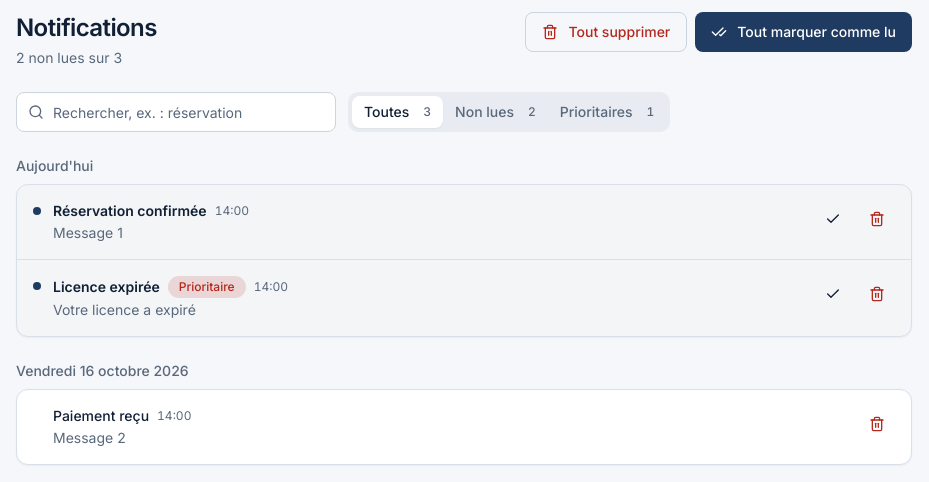
it: NotificationsPage › marque une notification comme lue en un clic
Expected: the text "Message 1" is shown, 53,224 -> 123,241
Click the button named "Marquer comme lue : Réservation confirmée" at (833, 219), box 815,201 -> 851,237
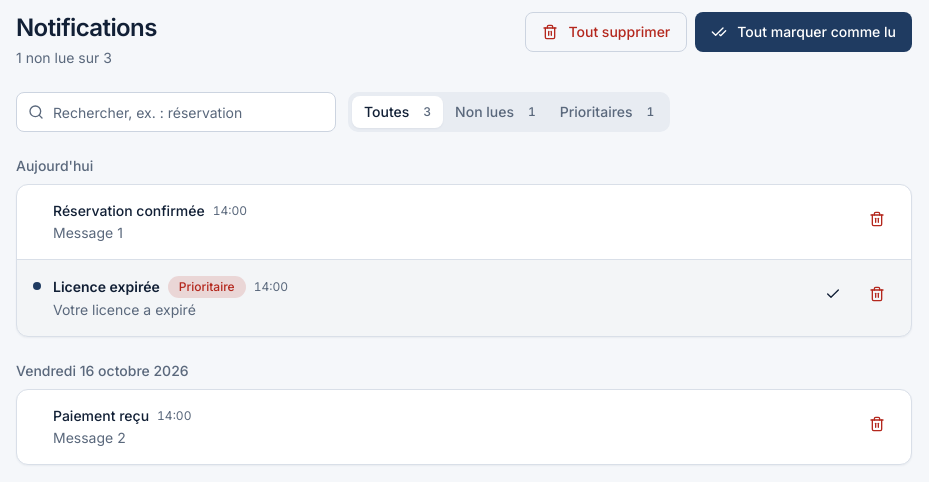
Expected: the text "1 non lue sur 3" is shown, 16,49 -> 112,66
